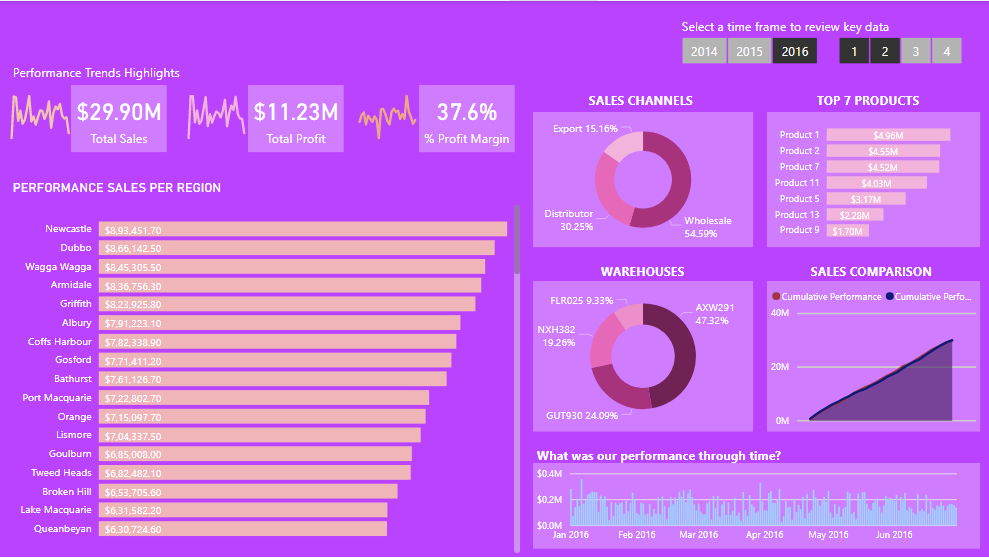

What the dashboard file says about the page in this screenshot:
{"tool":"powerbi","page":{"name":"Page 1","canvas":[1280,720],"ordinal":0},"visuals":[{"type":"slicer","fields":{"Values":["Date.QuarterOfYear"]},"box":[1062.9,42.7,206.3,42.7],"z":0},{"type":"slicer","fields":{"Values":["Date.Year"]},"box":[859.4,42.7,222,42.7],"z":1000},{"type":"lineChart","fields":{"Y":["Key Measures.Total Profit"],"Category":["Date.Week Number"]},"box":[229.1,108.1,102.5,75.4],"z":2000},{"type":"card","fields":{"Values":["Key Measures.Total Profit"]},"box":[321.6,108.1,123.8,86.8],"z":3000},{"type":"card","fields":{"Values":["Key Measures.Total Sales"]},"box":[92.5,108.1,123.8,86.8],"z":4000},{"type":"lineChart","fields":{"Category":["Date.Week Number"],"Y":["Key Measures.Total Sales"]},"box":[0,108.1,103.9,75.4],"z":5000},{"type":"card","fields":{"Values":["Key Measures.% Profit Margin"]},"box":[542.1,108.1,123.8,86.8],"z":6000},{"type":"lineChart","fields":{"Y":["Key Measures.% Profit Margin"],"Category":["Date.Week Number"]},"box":[451.1,108.1,102.5,75.4],"z":7000},{"type":"areaChart","title":"SALES COMPARISON","fields":{"Y":["Cumulative Measures.Cumulative Performance","Cumulative Measures.Cumulative Performance LY"],"Category":["Date.Week Number"]},"box":[993.2,362.8,276,194.9],"z":8000},{"type":"barChart","title":"PERFORMANCE SALES PER REGION","fields":{"Y":["Key Measures.Total Sales"],"Category":["Regions.City"]},"box":[11.4,231.9,667.4,488.1],"z":9000},{"type":"clusteredColumnChart","fields":{"Y":["Key Measures.Total Sales"],"Category":["Sales.OrderDate"]},"box":[690.1,597.6,579.1,111],"z":10000},{"type":"donutChart","title":"WAREHOUSES","fields":{"Category":["Sales.Warehouse Code"],"Y":["Key Measures.Total Sales"]},"box":[690.1,362.8,284.6,194.9],"z":11000},{"type":"barChart","title":"TOP 7 PRODUCTS","fields":{"Y":["Key Measures.Total Sales"],"Category":["Product Data.Product Name"]},"box":[993.2,143.7,276,175],"z":12000},{"type":"donutChart","title":"SALES CHANNELS","fields":{"Category":["Sales.Channel"],"Y":["Key Measures.Total Sales"]},"box":[690.1,143.7,284.6,175],"z":13000},{"type":"textbox","box":[11.4,76.8,300.2,44.1],"z":14000},{"type":"textbox","box":[877.9,17.1,350,37],"z":15000},{"type":"textbox","box":[757,112.4,153.7,35.6],"z":16000},{"type":"textbox","box":[1053,112.4,155.1,32.7],"z":17000},{"type":"textbox","box":[772.6,334.4,129.5,38.4],"z":18000},{"type":"textbox","box":[1044.4,334.4,177.9,38.4],"z":19000},{"type":"textbox","box":[690.1,572,345.8,31.3],"z":20000}]}

Visuals, with their boxes in screenshot pixels (x1, y1, x2, y2), scaled from the page's 1280x720 canvas onto the 989x558 screenshot:
slicer - Date.QuarterOfYear: pyautogui.locateOnScreen(821, 33, 981, 66)
slicer - Date.Year: pyautogui.locateOnScreen(664, 33, 836, 66)
lineChart - Key Measures.Total Profit x Date.Week Number: pyautogui.locateOnScreen(177, 84, 256, 142)
card - Key Measures.Total Profit: pyautogui.locateOnScreen(248, 84, 344, 151)
card - Key Measures.Total Sales: pyautogui.locateOnScreen(71, 84, 167, 151)
lineChart - Date.Week Number x Key Measures.Total Sales: pyautogui.locateOnScreen(0, 84, 80, 142)
card - Key Measures.% Profit Margin: pyautogui.locateOnScreen(419, 84, 515, 151)
lineChart - Key Measures.% Profit Margin x Date.Week Number: pyautogui.locateOnScreen(349, 84, 428, 142)
"SALES COMPARISON" areaChart: pyautogui.locateOnScreen(767, 281, 981, 432)
"PERFORMANCE SALES PER REGION" barChart: pyautogui.locateOnScreen(9, 180, 524, 557)
clusteredColumnChart - Key Measures.Total Sales x Sales.OrderDate: pyautogui.locateOnScreen(533, 463, 981, 549)
"WAREHOUSES" donutChart: pyautogui.locateOnScreen(533, 281, 753, 432)
"TOP 7 PRODUCTS" barChart: pyautogui.locateOnScreen(767, 111, 981, 247)
"SALES CHANNELS" donutChart: pyautogui.locateOnScreen(533, 111, 753, 247)
textbox: pyautogui.locateOnScreen(9, 60, 241, 94)
textbox: pyautogui.locateOnScreen(678, 13, 949, 42)
textbox: pyautogui.locateOnScreen(585, 87, 704, 115)
textbox: pyautogui.locateOnScreen(814, 87, 933, 112)
textbox: pyautogui.locateOnScreen(597, 259, 697, 289)
textbox: pyautogui.locateOnScreen(807, 259, 944, 289)
textbox: pyautogui.locateOnScreen(533, 443, 800, 468)
